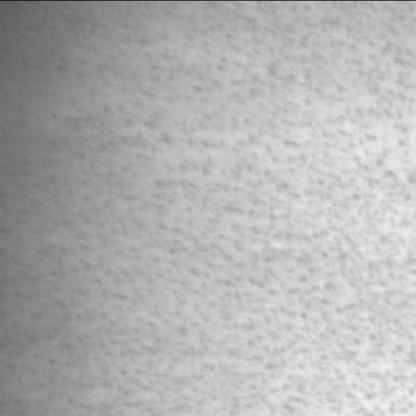pitted_surface: (75, 48, 408, 414)
